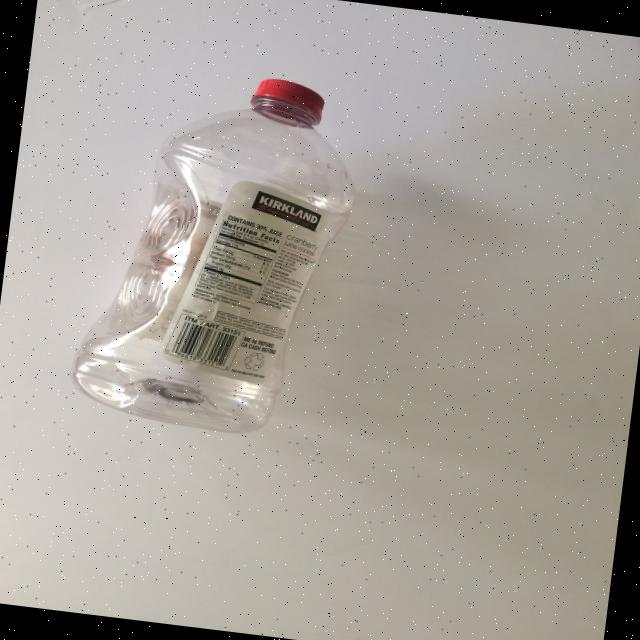plastic: (65, 57, 368, 444)
